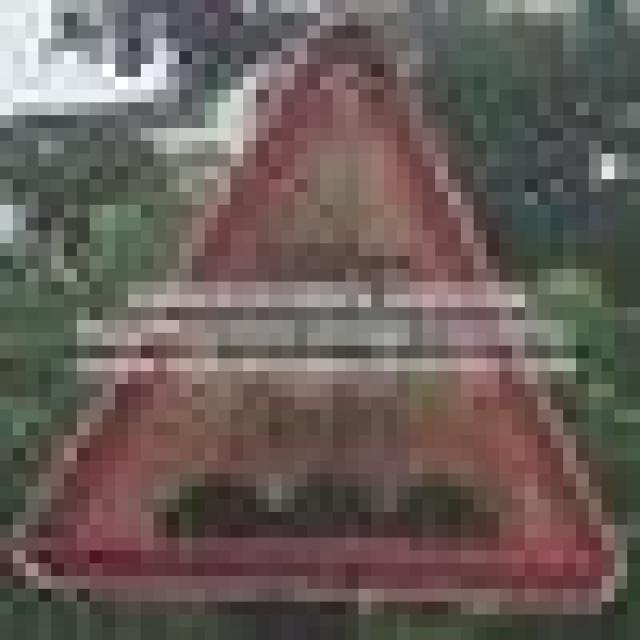horn_prohibited: (13, 0, 627, 602)
